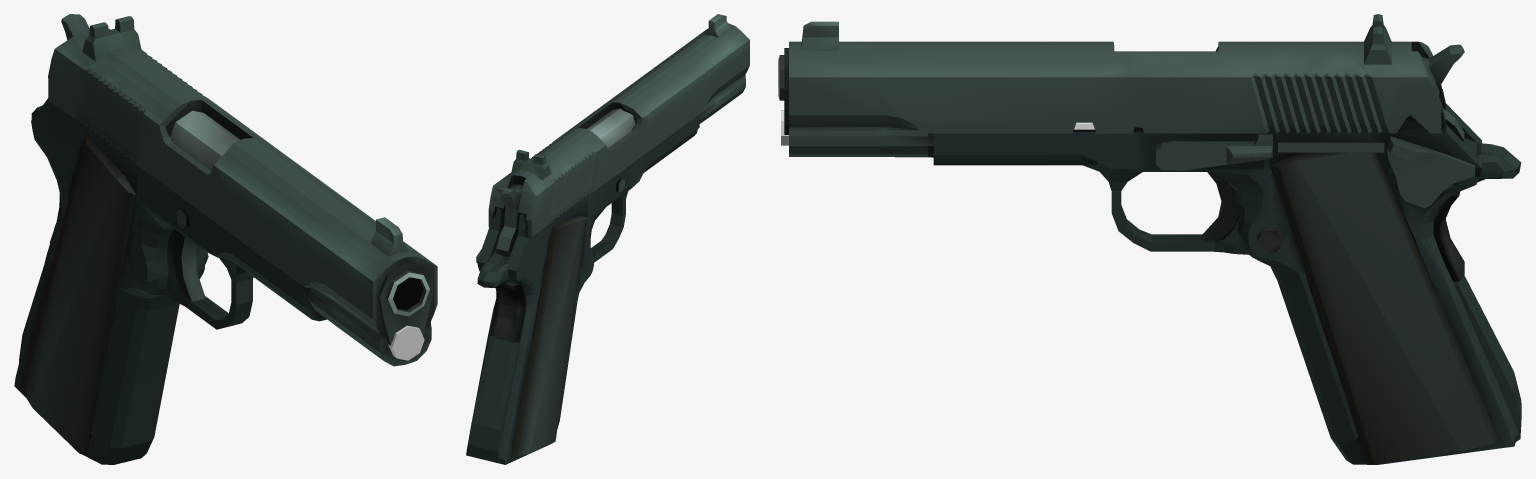
The model's file is colt_1911_a1_fixed_sight.FBX.
3 renders of one model, left to right at view 1: azimuth 30°, elevation 25°; view 2: azimuth 150°, elevation 25°; view 3: azimuth 270°, elevation 25°, orthographic. The views are drawn at different scales.
Visible parts, largest first — view 1: slide, reciever, stock, barrel, barrel bushing, trigger, recoil spring plug, hammer; view 2: slide, reciever, stock, grip safety, hammer, barrel; view 3: slide, stock, reciever, safety, slide stop, grip safety, trigger, plunger tube, hammer.
Part boxes in pixels (<box>): slide: <box>48,16,437,366</box>; reciever: <box>14,98,326,464</box>; stock: <box>21,135,136,455</box>; barrel: <box>170,110,429,316</box>; barrel bushing: <box>378,262,433,345</box>; trigger: <box>173,231,205,301</box>; recoil spring plug: <box>388,325,424,360</box>; hammer: <box>61,14,89,39</box>; slide: <box>488,14,749,236</box>; reciever: <box>466,114,699,464</box>; stock: <box>511,215,586,456</box>; grip safety: <box>489,282,525,341</box>; hammer: <box>496,184,522,251</box>; barrel: <box>587,108,635,148</box>; slide: <box>789,14,1441,157</box>; stock: <box>1270,142,1498,464</box>; reciever: <box>933,84,1521,464</box>; safety: <box>1386,136,1475,208</box>; slide stop: <box>1156,134,1272,170</box>; grip safety: <box>1433,191,1464,281</box>; trigger: <box>1201,172,1238,241</box>; plunger tube: <box>1278,142,1384,152</box>; hammer: <box>1422,44,1464,141</box>.
Size of the model in its own units: 0.0273 by 0.1277 by 0.2.
